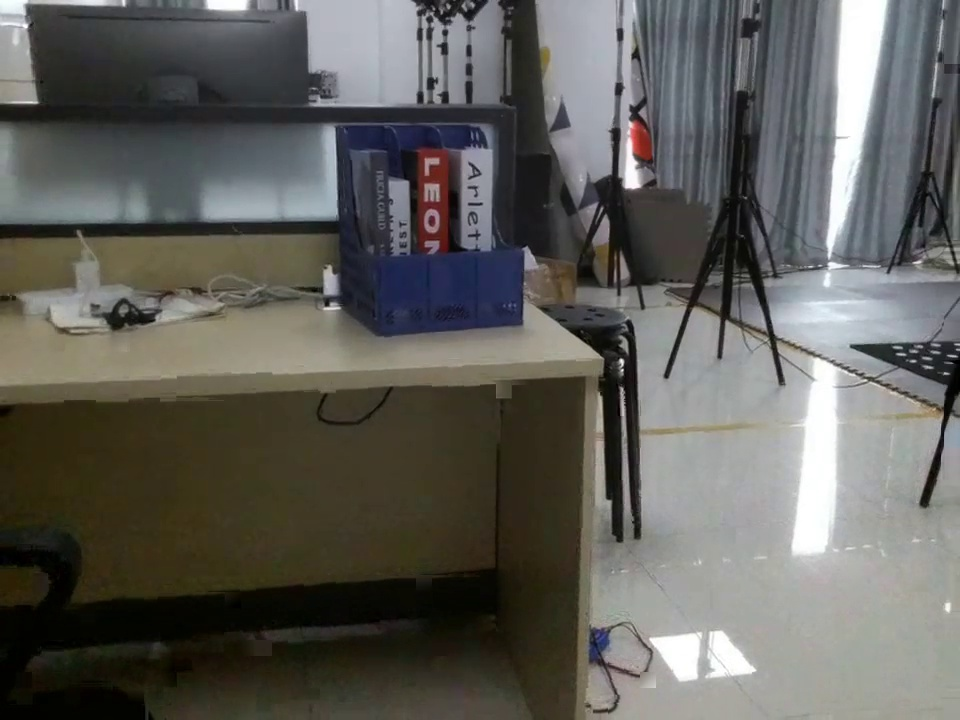files: (333, 119, 527, 340)
